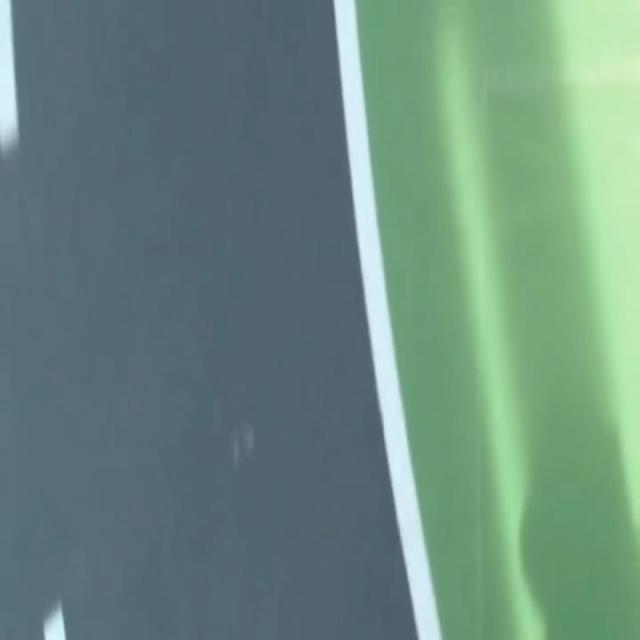center: (0, 0, 18, 151), (44, 605, 65, 639)
right: (333, 0, 441, 639)
